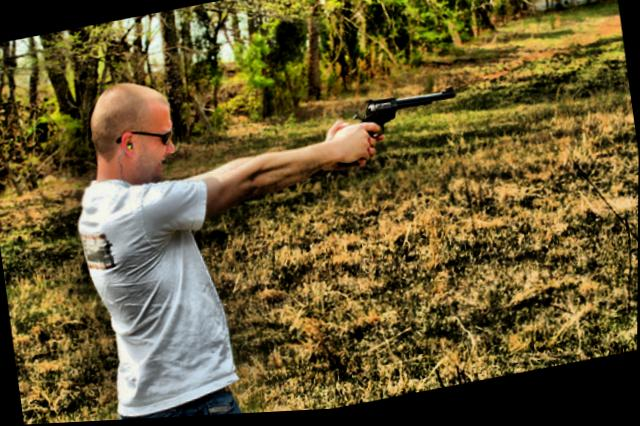pistol: (346, 85, 459, 147)
